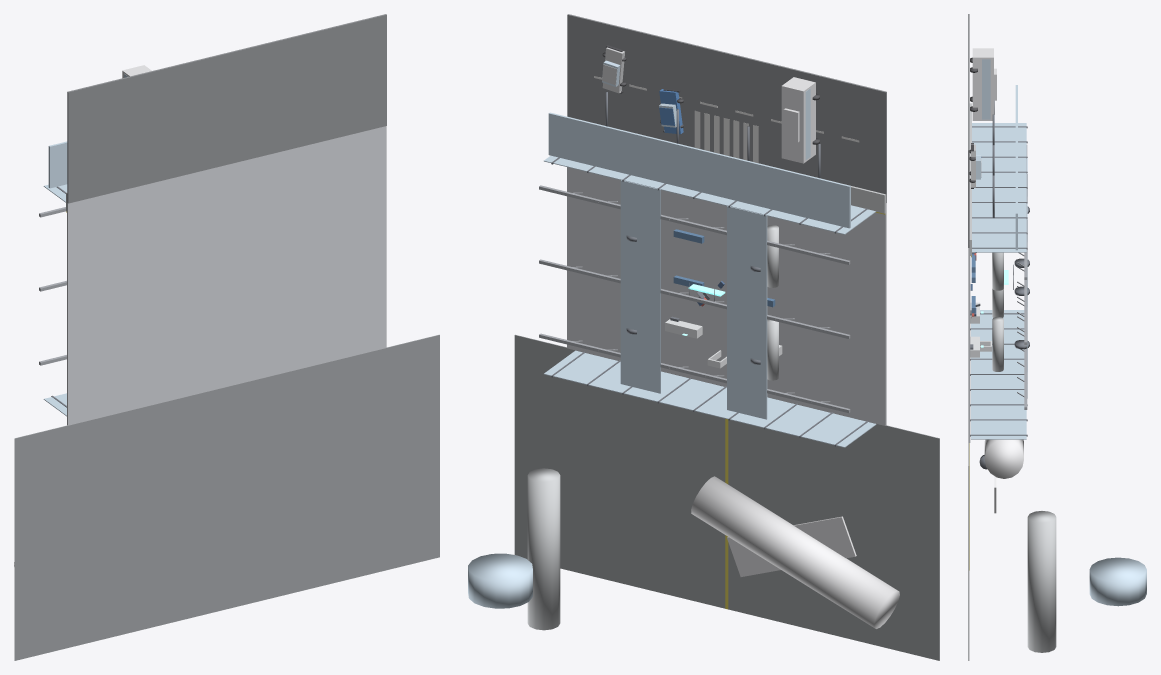
The model's file is airport_terminal.glb.
3 views of the same model, side by side, from view 1: azimuth 30°, elevation 25°; view 2: azimuth 150°, elevation 25°; view 3: azimuth 270°, elevation 25° (orthographic). The views are drawn at different scales.
Visible parts, largest first — view 1: AirportTerminalGLB; view 2: AirportTerminalGLB; view 3: AirportTerminalGLB.
Boxes of the visible parts, x1,y1,x2,y2 form: AirportTerminalGLB: [14, 14, 439, 660]; AirportTerminalGLB: [468, 14, 939, 660]; AirportTerminalGLB: [968, 14, 1146, 660].
Size of the model in its own units: 48 by 62 by 19.95.
